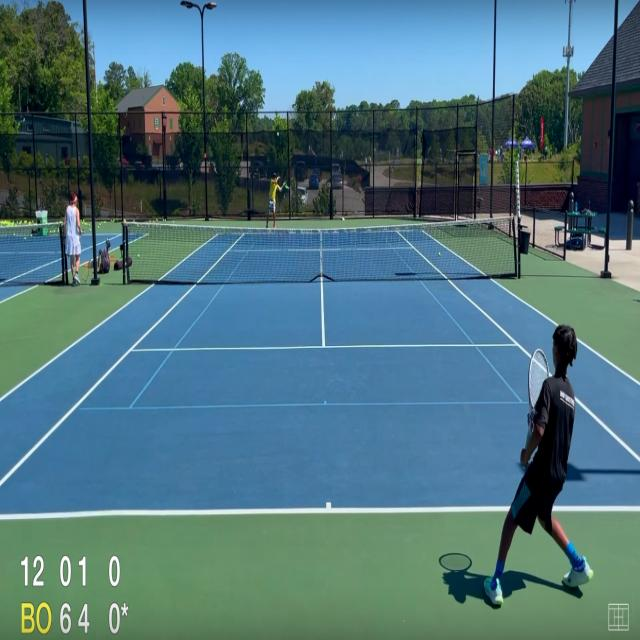ball: (276, 131, 280, 137), (438, 252, 441, 257)
